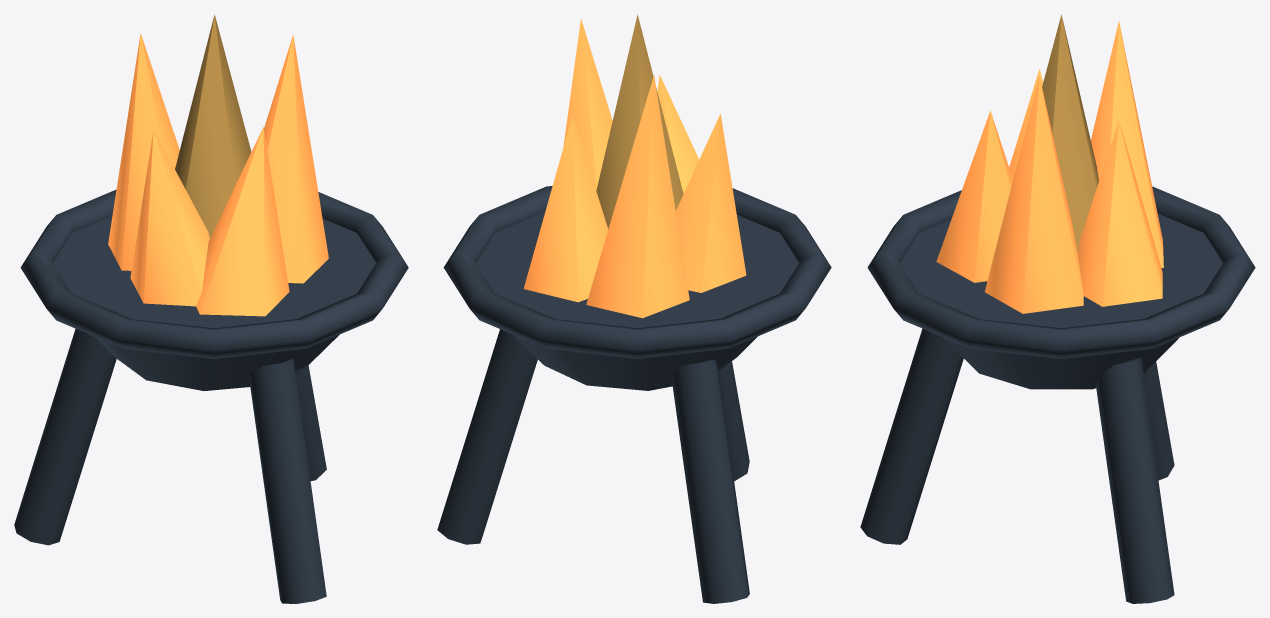
Rendered from iron-brazier.glb.
3 views of the same model, side by side, from view 1: azimuth 30°, elevation 25°; view 2: azimuth 150°, elevation 25°; view 3: azimuth 270°, elevation 25° (orthographic).
Parts seen in each view (by area): view 1: rim, bowl, leg-0, flame-0, leg-2, flame-4, flame-1, heart-flame, flame-3, leg-1; view 2: rim, bowl, flame-3, leg-2, leg-1, flame-2, flame-4, heart-flame, flame-1, leg-0, flame-0; view 3: rim, bowl, flame-1, leg-1, leg-0, flame-2, flame-0, heart-flame, flame-3, leg-2, flame-4.
Part boxes in pixels (left/top/right/bottom): rim: left=20, top=189, right=408, bottom=358; bowl: left=53, top=216, right=376, bottom=390; leg-0: left=250, top=359, right=326, bottom=603; flame-0: left=196, top=127, right=289, bottom=316; leg-2: left=14, top=328, right=116, bottom=545; flame-4: left=130, top=130, right=209, bottom=306; flame-1: left=264, top=34, right=328, bottom=283; heart-flame: left=175, top=14, right=251, bottom=238; flame-3: left=108, top=33, right=179, bottom=270; leg-1: left=295, top=365, right=326, bottom=480; rim: left=443, top=186, right=831, bottom=358; bowl: left=476, top=212, right=798, bottom=390; flame-3: left=586, top=75, right=689, bottom=318; leg-2: left=671, top=359, right=749, bottom=603; leg-1: left=437, top=329, right=537, bottom=544; flame-2: left=523, top=115, right=608, bottom=302; flame-4: left=675, top=113, right=746, bottom=292; heart-flame: left=596, top=14, right=683, bottom=228; flame-1: left=563, top=18, right=612, bottom=190; leg-0: left=718, top=361, right=749, bottom=481; flame-0: left=657, top=75, right=699, bottom=193; rim: left=867, top=186, right=1255, bottom=358; bowl: left=900, top=213, right=1222, bottom=389; flame-1: left=985, top=76, right=1083, bottom=313; leg-1: left=1096, top=358, right=1174, bottom=603; leg-0: left=860, top=328, right=963, bottom=544; flame-2: left=1078, top=121, right=1162, bottom=306; flame-0: left=936, top=110, right=1012, bottom=282; heart-flame: left=1042, top=14, right=1098, bottom=253; flame-3: left=1091, top=21, right=1163, bottom=267; leg-2: left=1143, top=361, right=1174, bottom=480; flame-4: left=1009, top=69, right=1042, bottom=179.
Bounding box in the file's own units: 0.874 × 1.3 × 0.8899.
